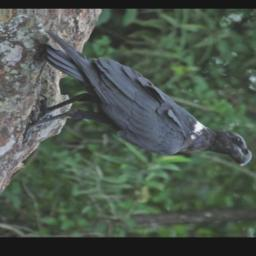Crow: (20, 30, 255, 171)
